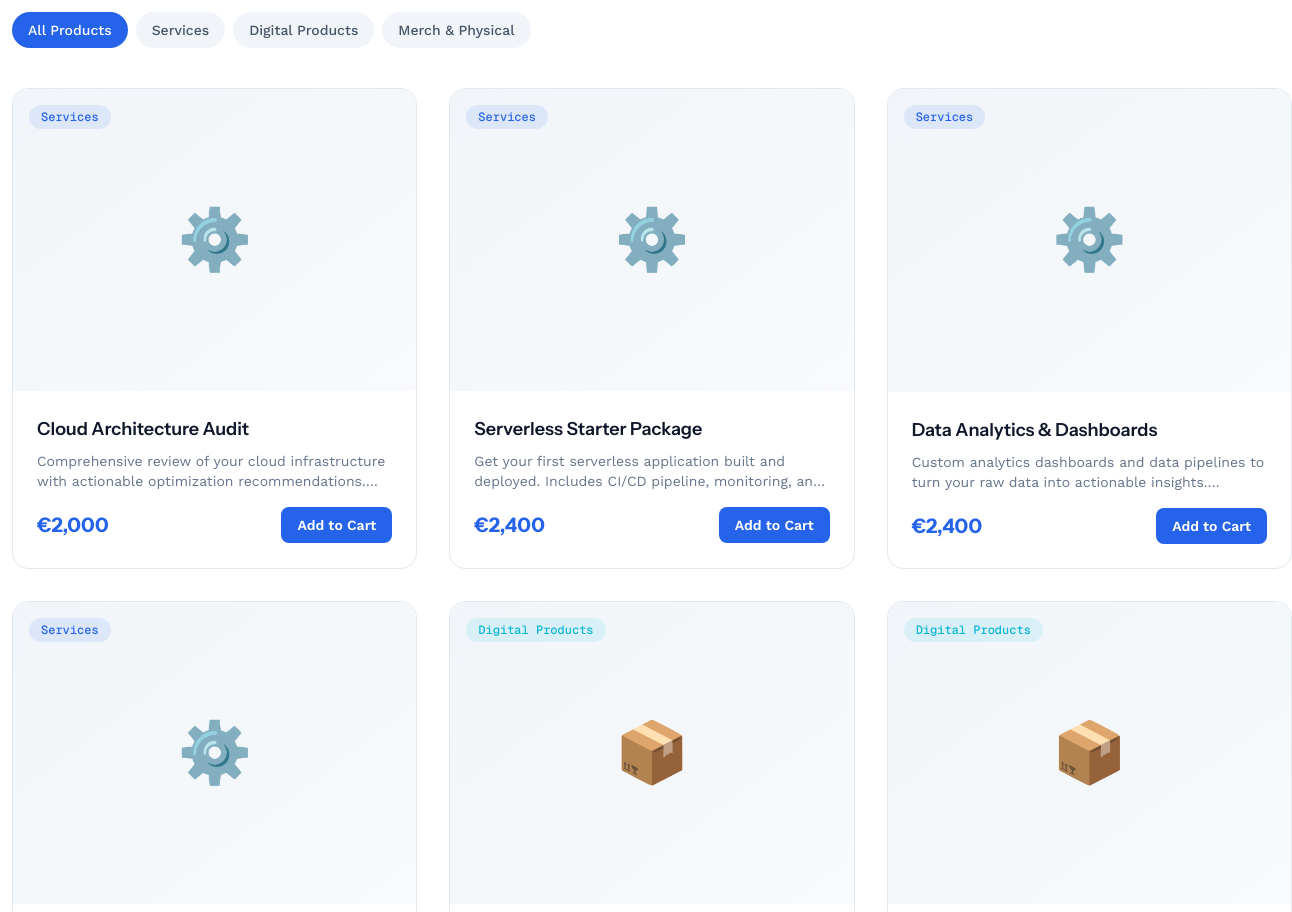
Test: StoreGrid › filters to only services when Services is clicked
Step 1. Click the button "Services" → point(180, 30), box 136,12 -> 225,48
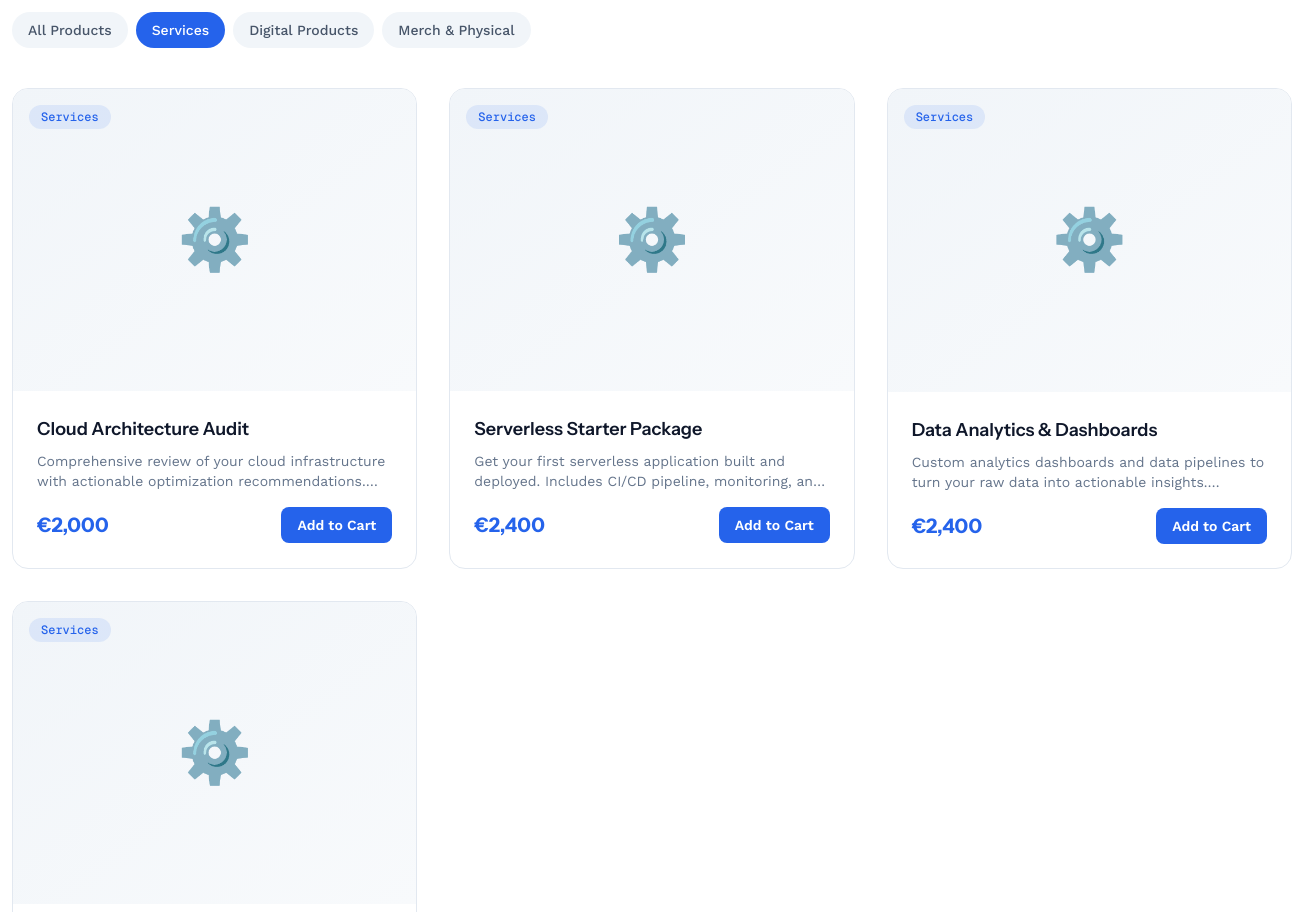
expect the heading "Cloud Architecture Audit" is shown: met, box 37,418 -> 249,440
expect the number of buttons "Add to Cart" is 4: met
